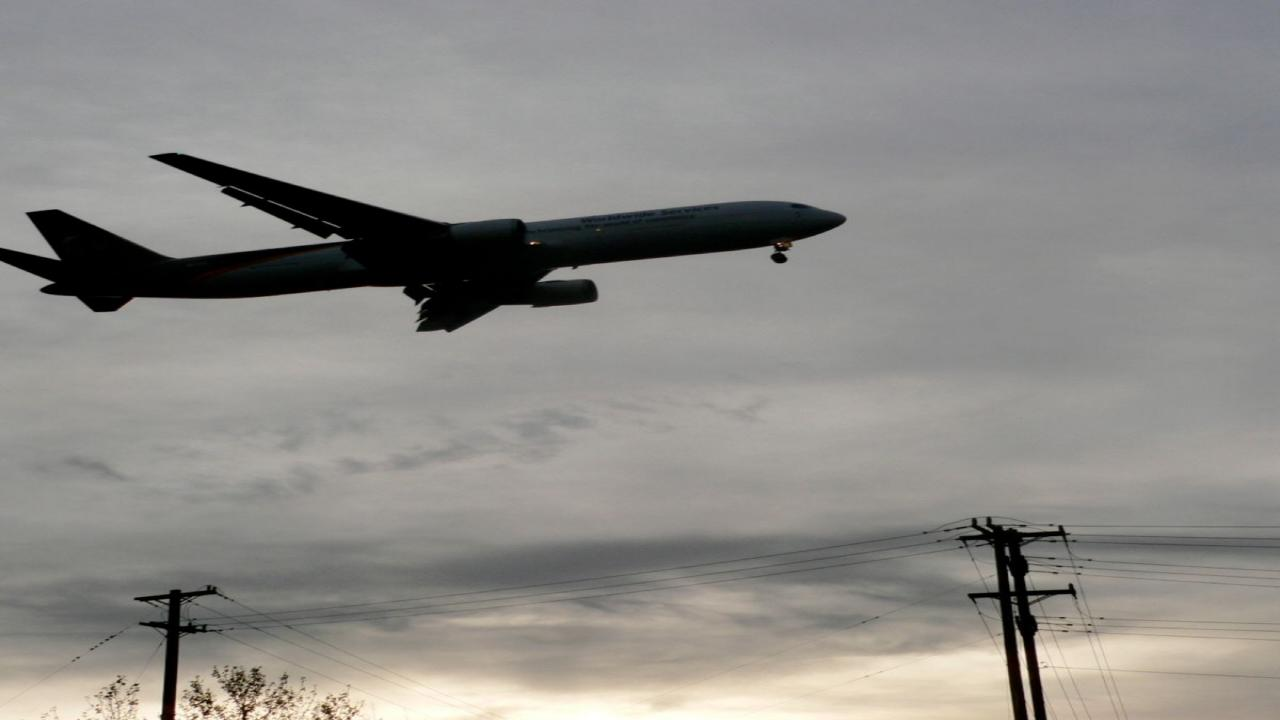Airplane: (0, 137, 857, 348)
